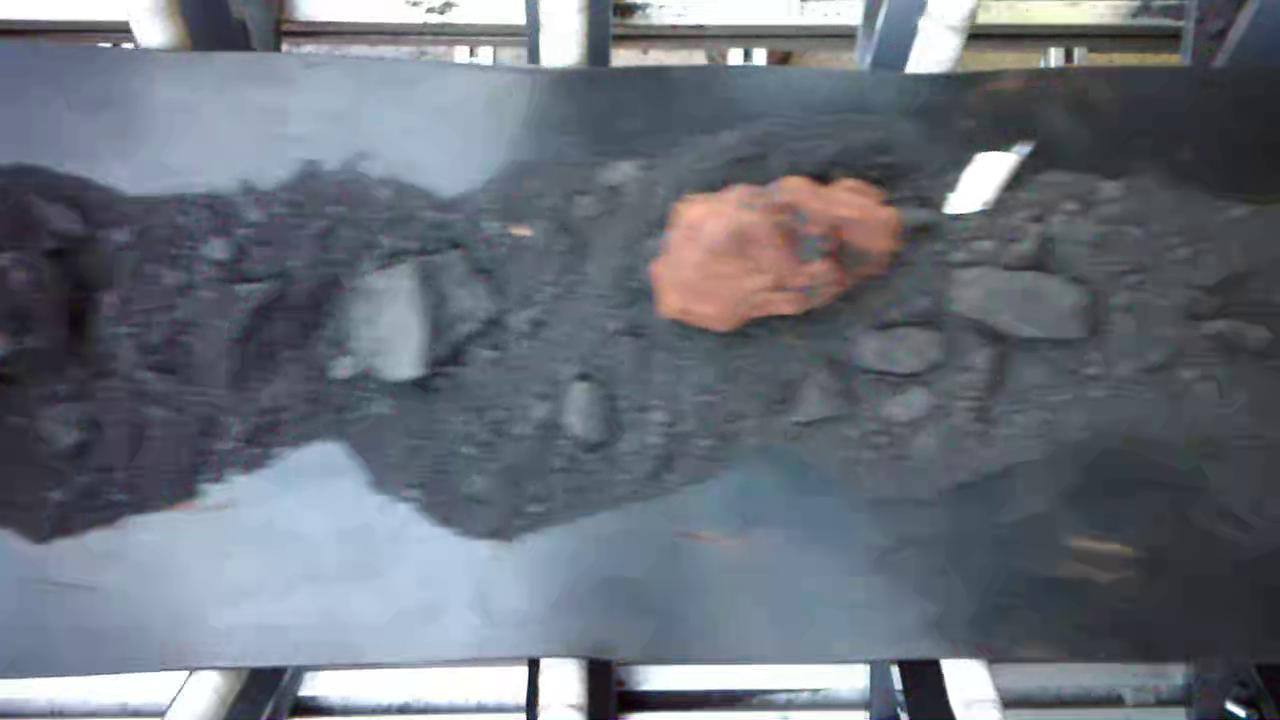conveyor: (7, 74, 1280, 656)
